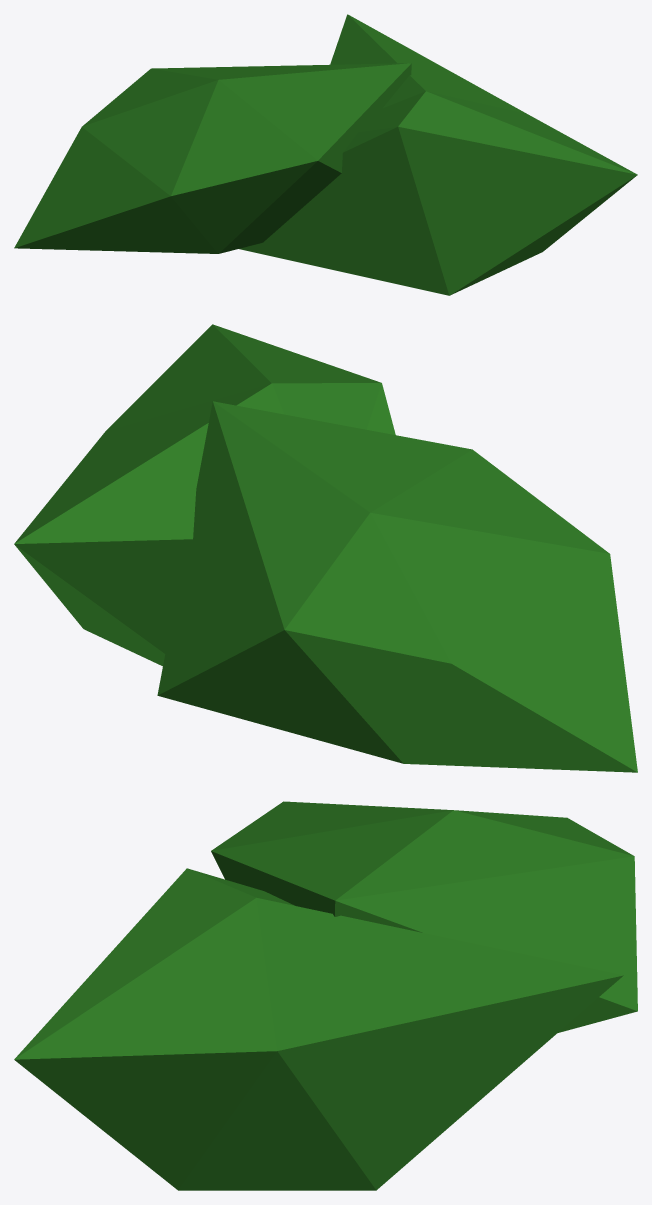
File: bush.glb
3 views of the same model, one above another, from view 1: azimuth 30°, elevation 25°; view 2: azimuth 150°, elevation 25°; view 3: azimuth 270°, elevation 25° (orthographic). The views are drawn at different scales.
Parts seen in each view (by area): view 1: Bush; view 2: Bush; view 3: Bush.
Part boxes in pixels (left/top/right/bottom): Bush: left=14, top=14, right=637, bottom=295; Bush: left=14, top=324, right=637, bottom=772; Bush: left=14, top=801, right=637, bottom=1190.
Size of the model in its own units: 5.4 by 2 by 4.46.
